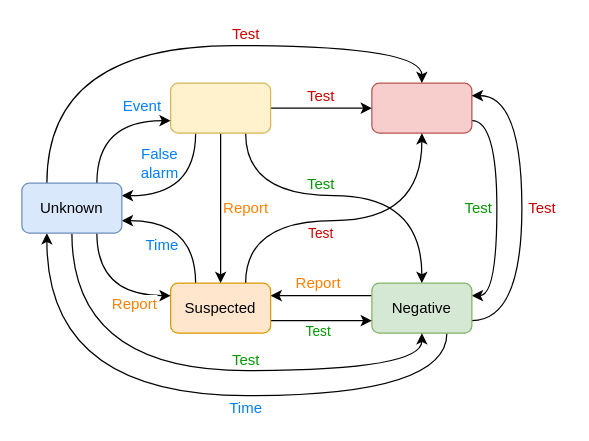
This 589x441 diagram has some shape labels left out. The centre of each missing label's shape, as x and y in pixels:
High Risk: point 220,107
Positive: point 421,107
